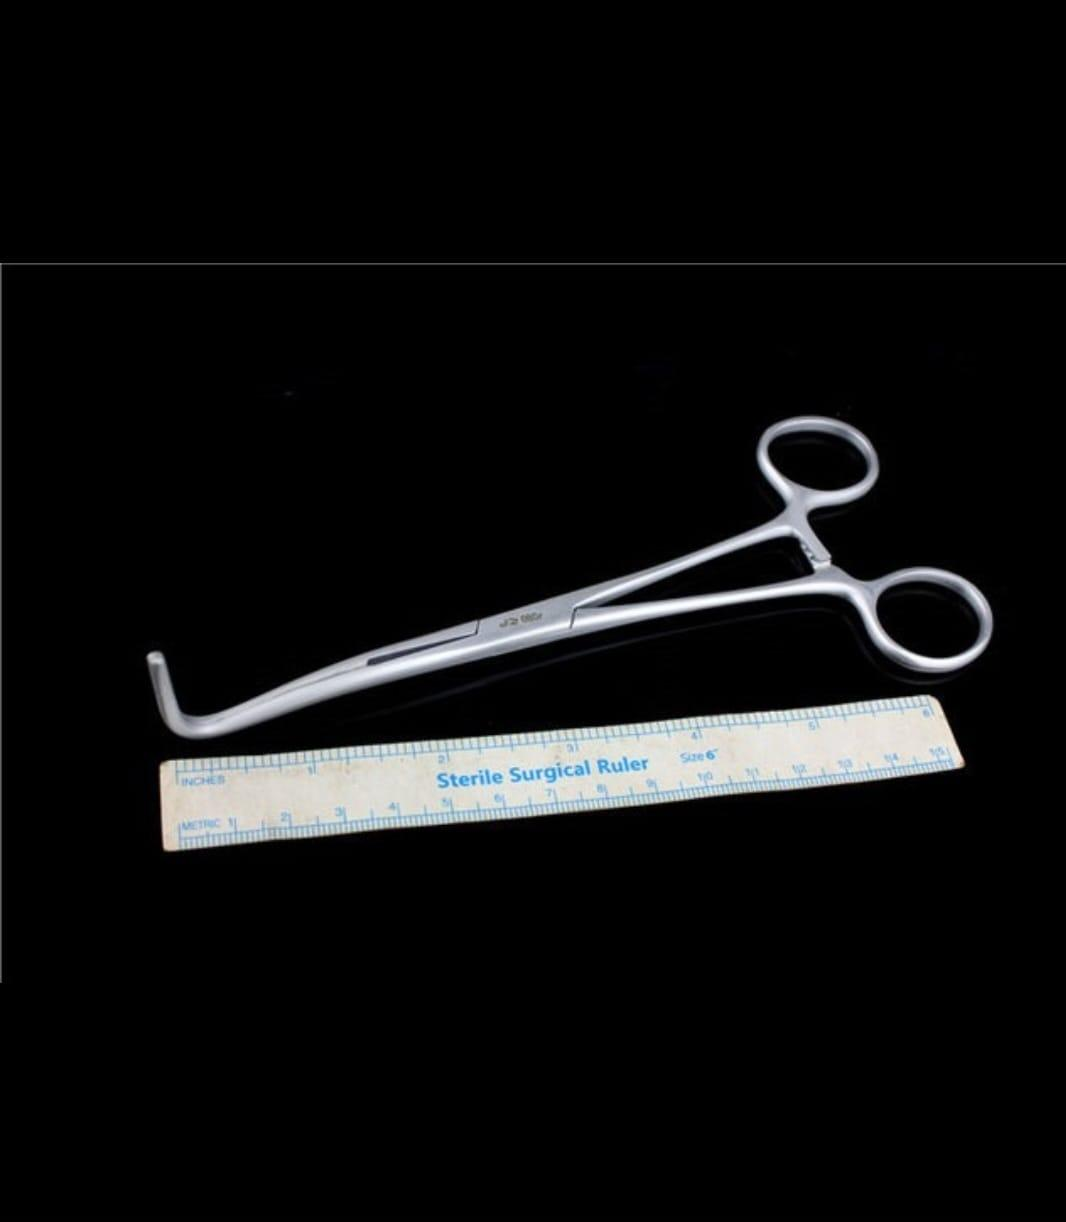Rectangle Cholecystectomy Forceps: (142, 410, 1002, 742)
